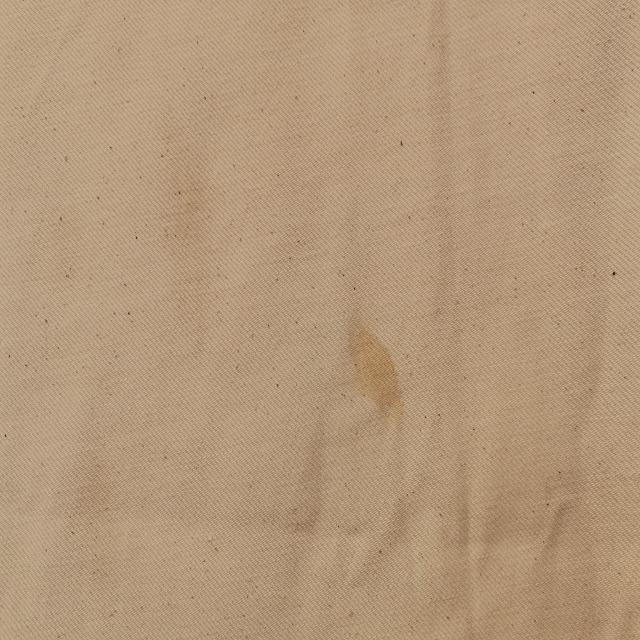taaaches: (340, 302, 414, 430)
